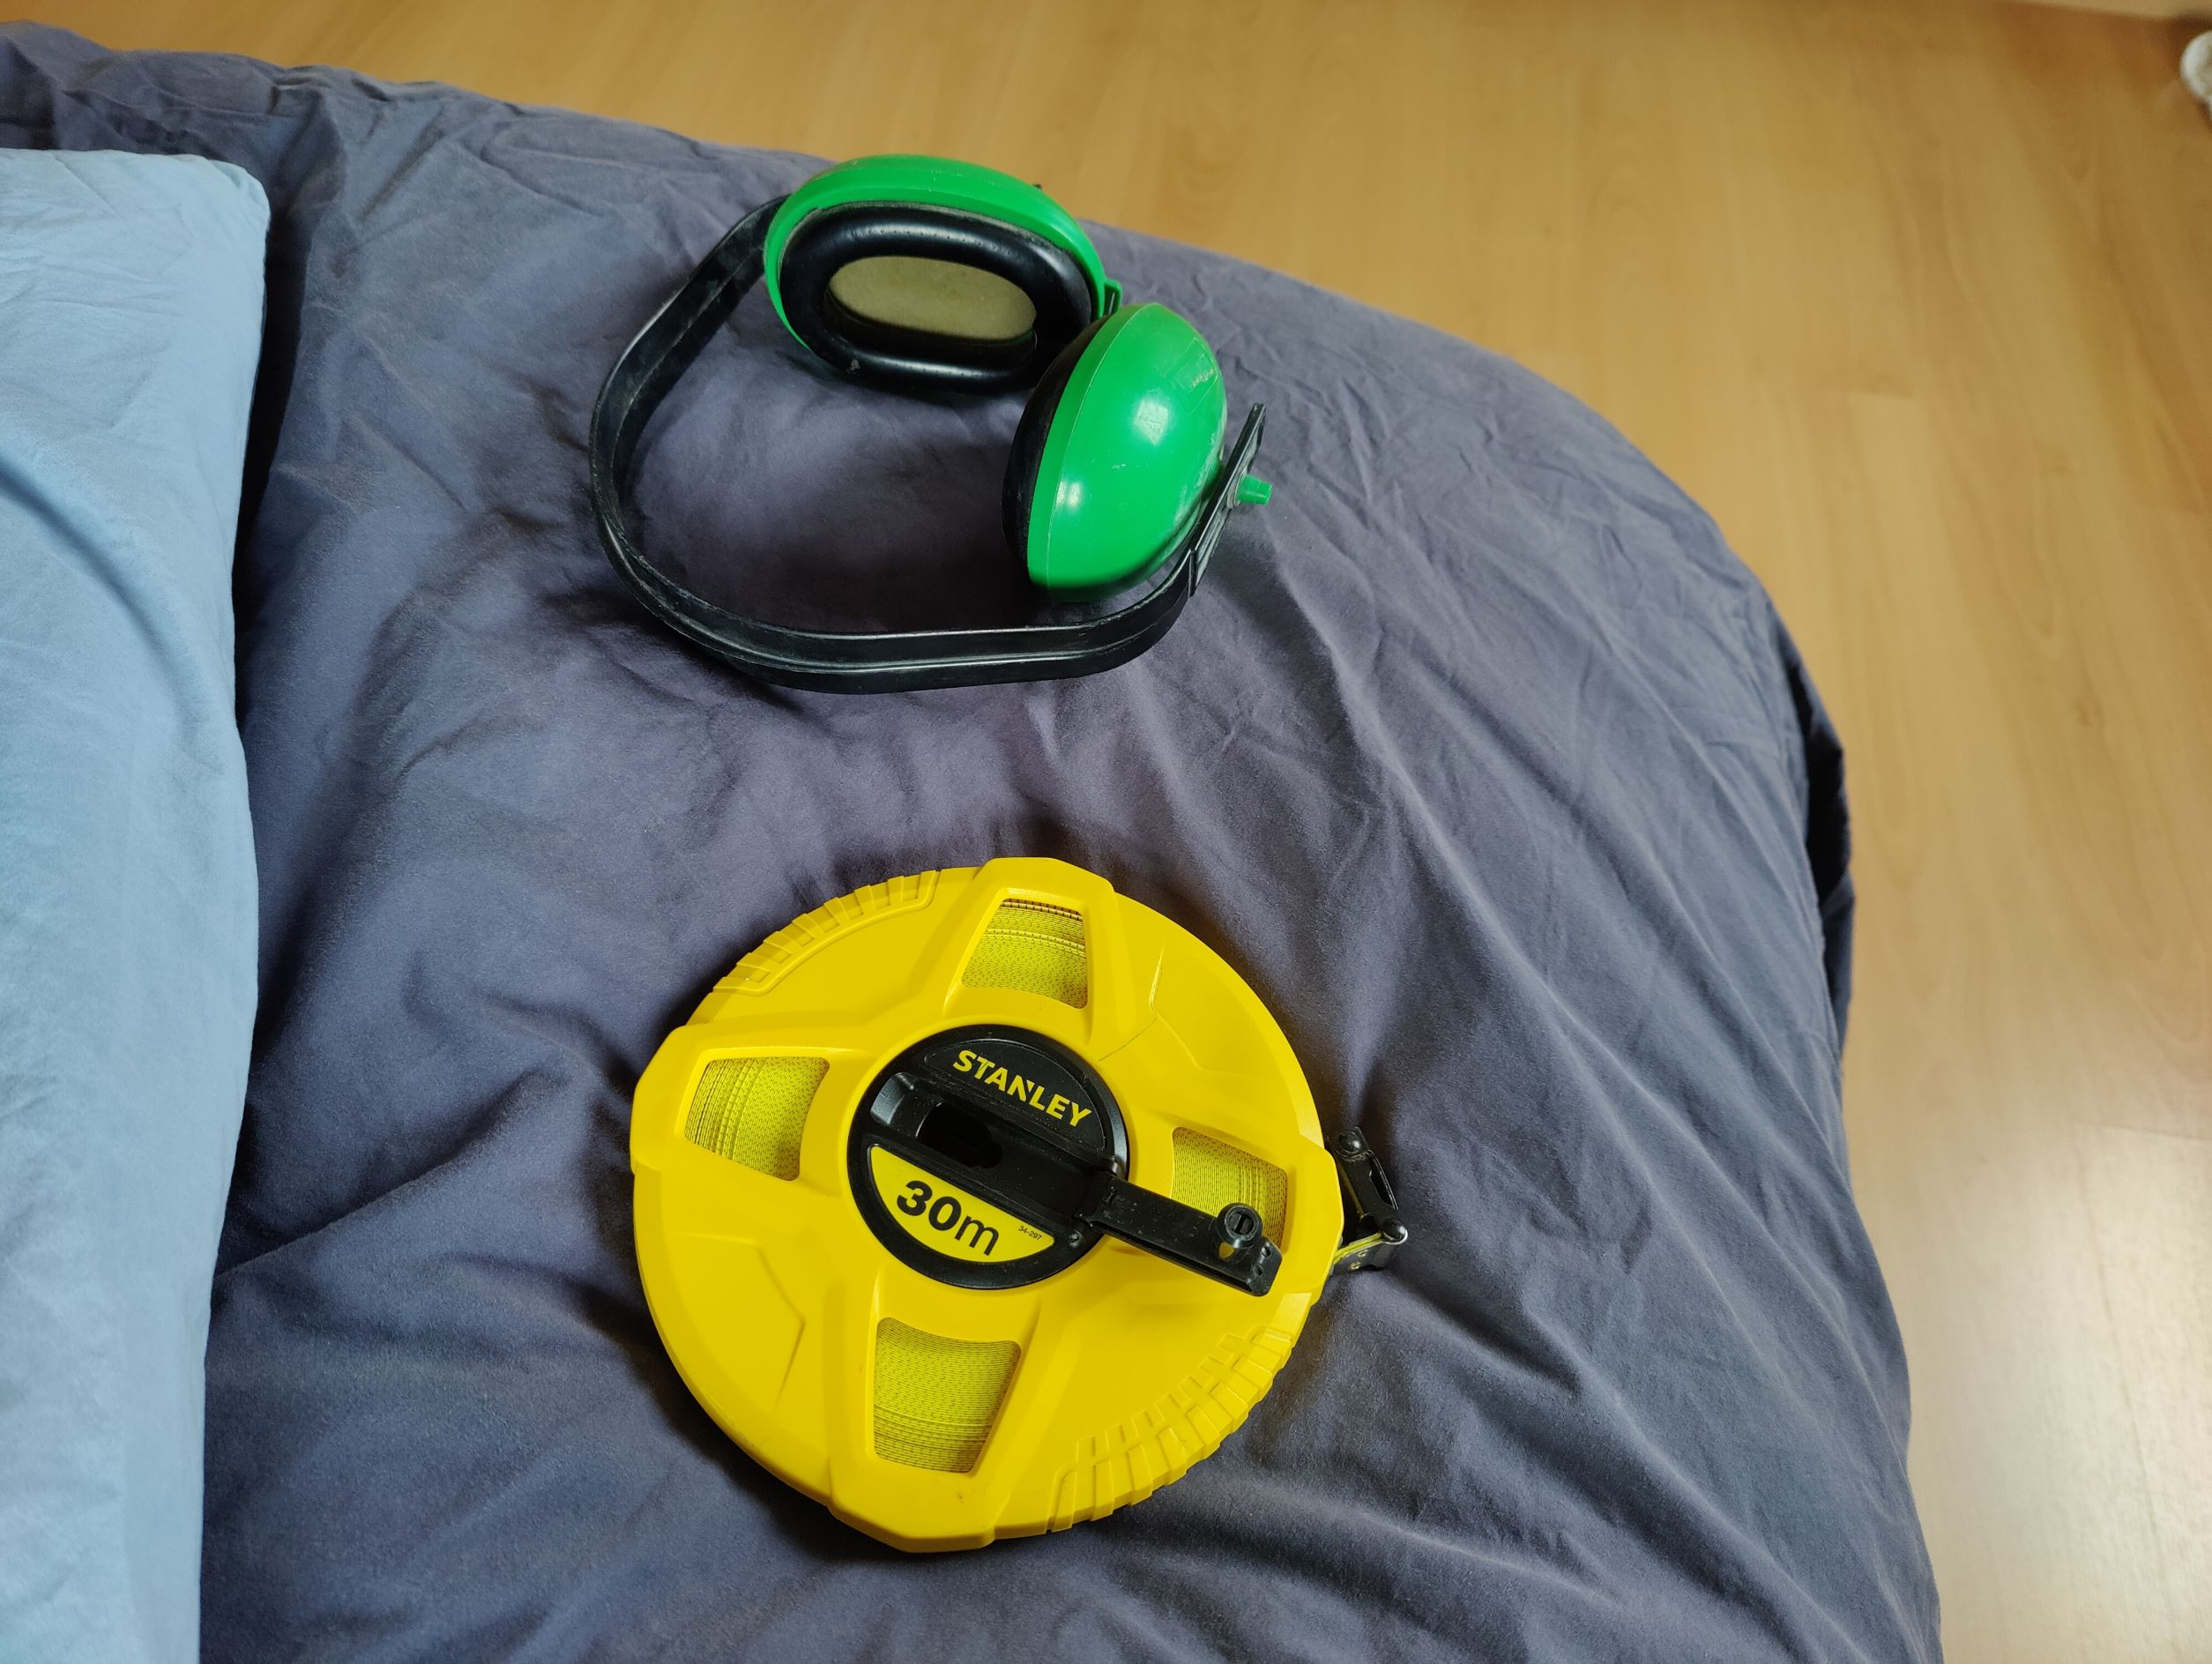headphones: (589, 156, 1277, 692)
tapemeasure: (622, 855, 1408, 1554)
